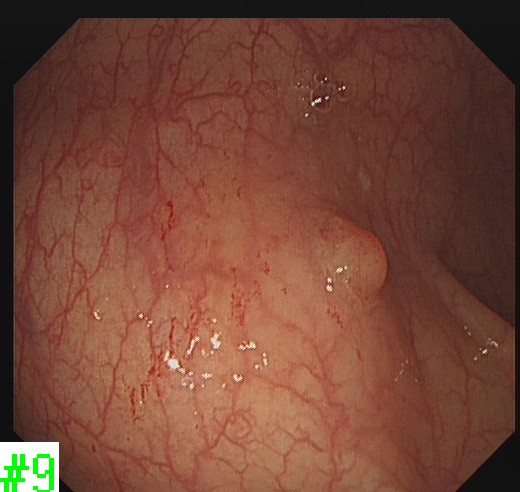adenoma: (323, 211, 389, 301)
